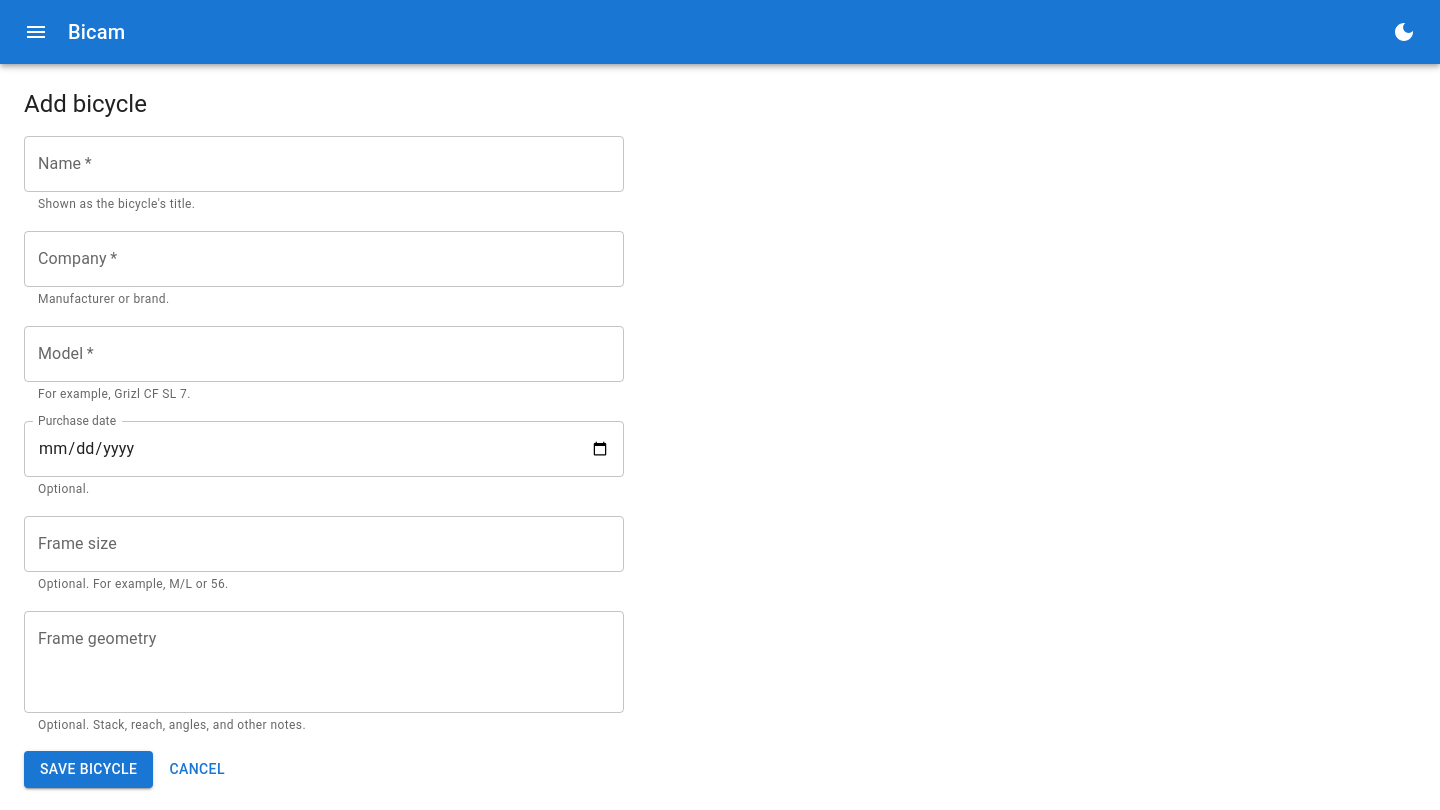
Test: App › stays on the form and explains the errors when the store rejects the bicycle
This screenshot has width=1440, height=810.
In the field labelled "Name": (324, 164) x1=24 y1=136 x2=624 y2=192, type "roadie"
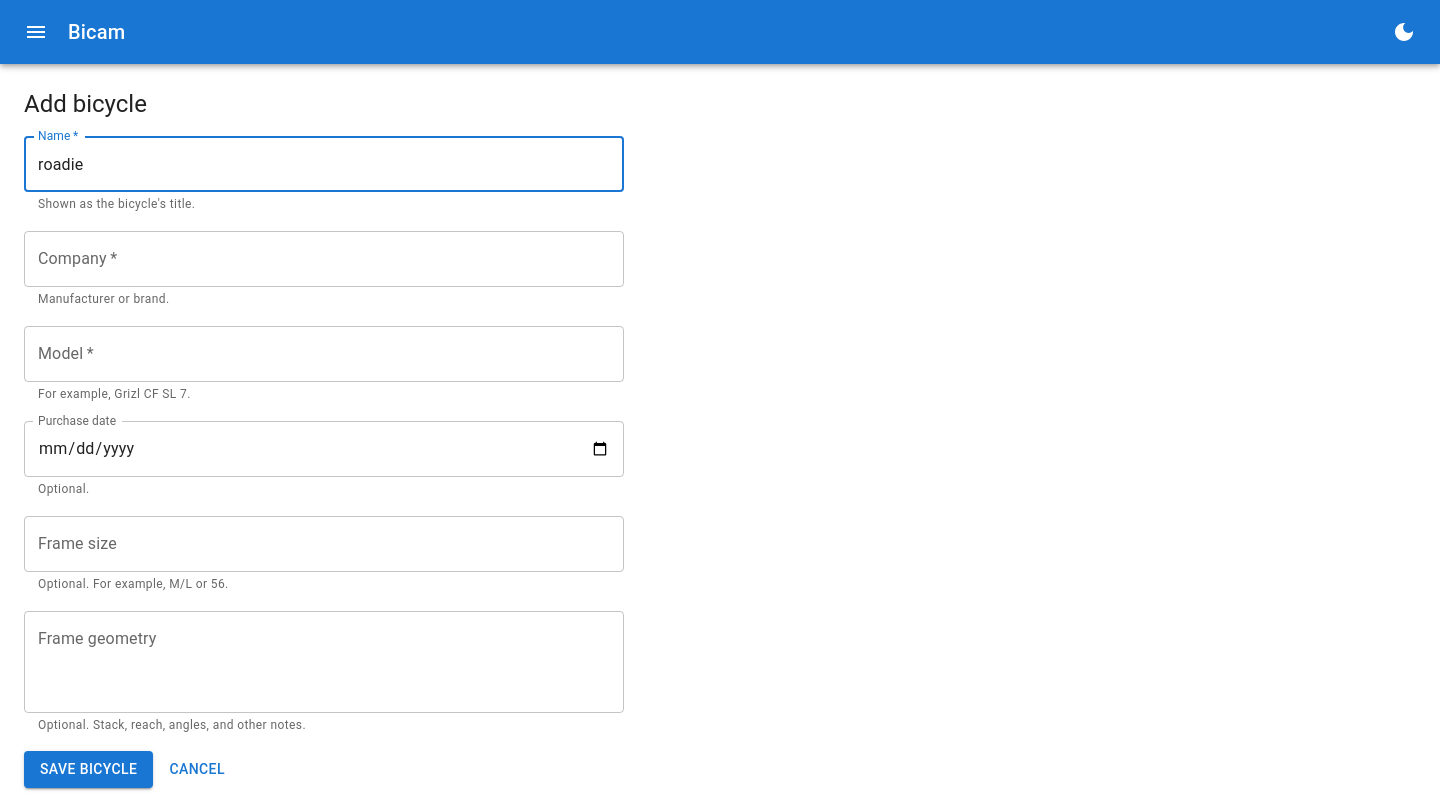
Click the button "Save bicycle": (89, 770) x1=24 y1=752 x2=153 y2=788
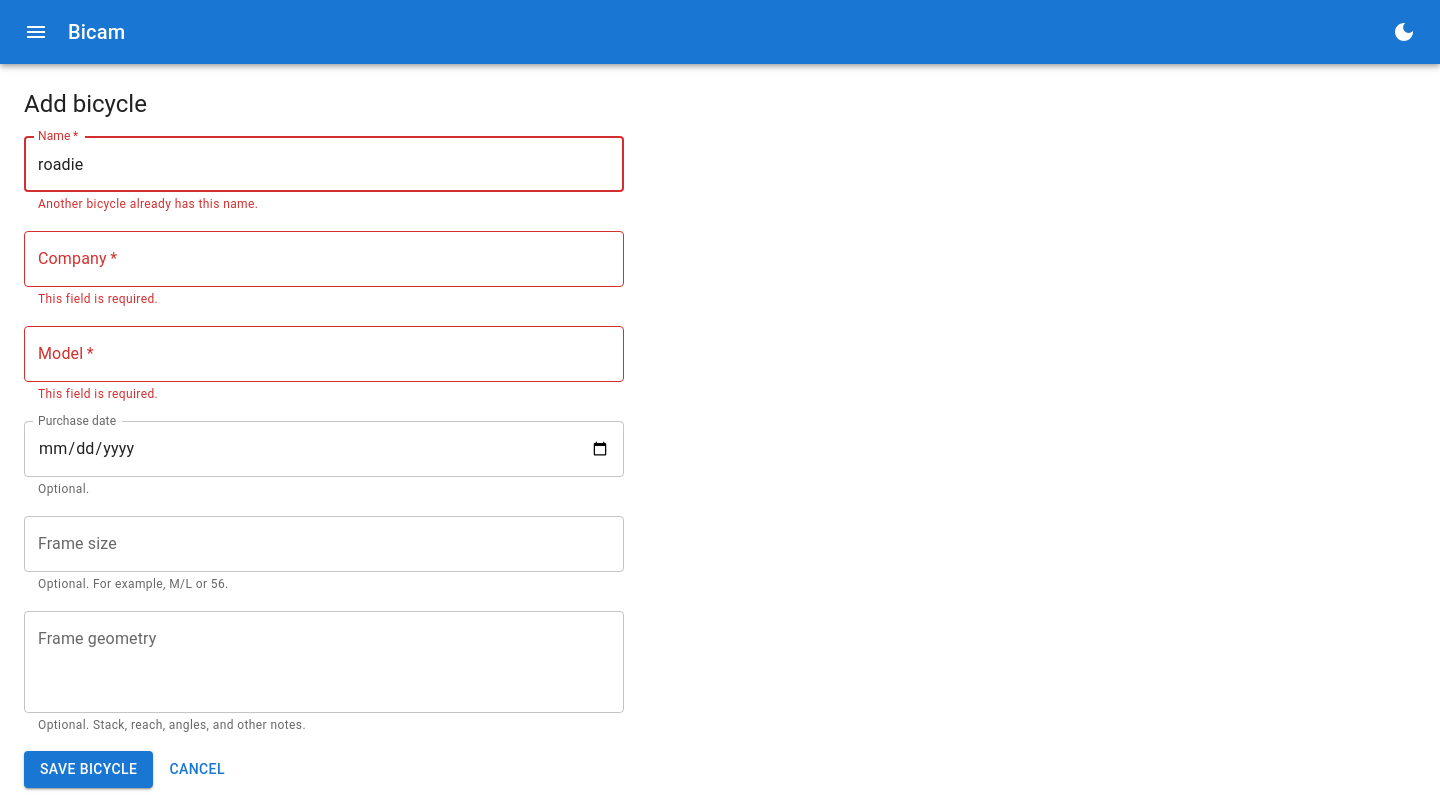
Expected: the text "This field is required." is shown 2 times, x1=38 y1=292 x2=158 y2=306; x1=38 y1=387 x2=158 y2=401
Expected: the text "Another bicycle already has this name." is shown, x1=38 y1=197 x2=258 y2=211
